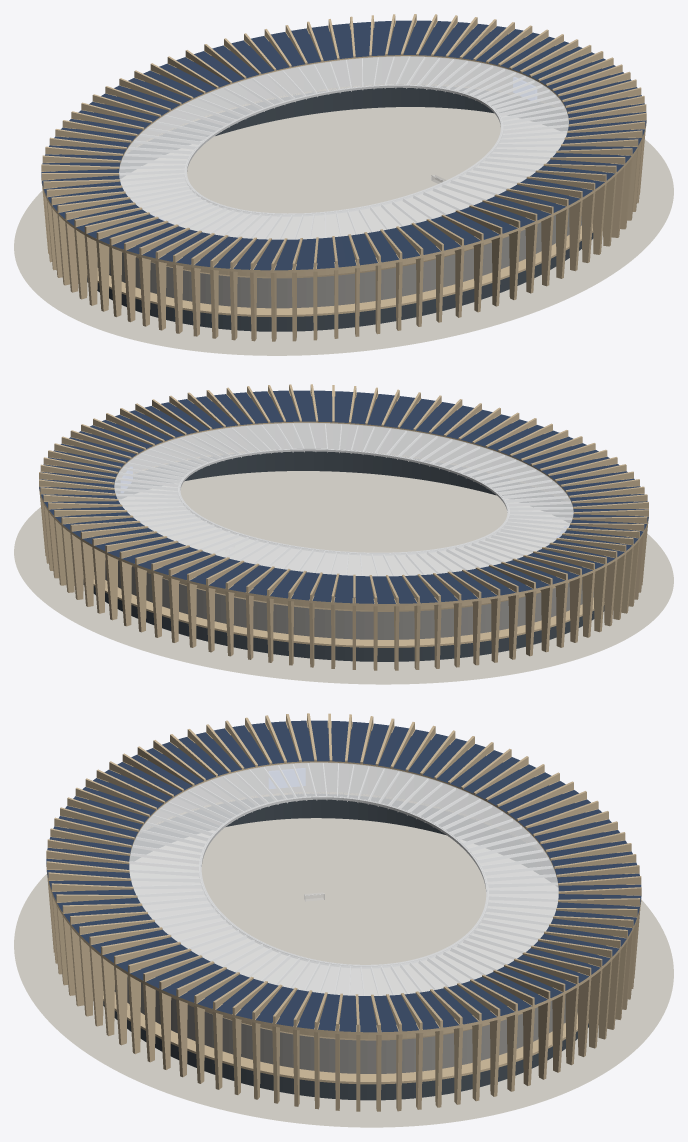
Rendered from MINEIRAO.fbx.
3 views of the same model, one above another, from view 1: azimuth 30°, elevation 25°; view 2: azimuth 150°, elevation 25°; view 3: azimuth 270°, elevation 25° (orthographic). The views are drawn at different scales.
Visible parts, largest first — view 1: Mnr_Esplanada, Mnr_Porticos_88, Mnr_Cobertura_Original, Mnr_Cobertura_Nova, Mnr_Arquibancadas, Mnr_Trelicas_Cobertura, Mnr_Anel_Circulacao, Mnr_Anel_Compressao; view 2: Mnr_Porticos_88, Mnr_Esplanada, Mnr_Cobertura_Original, Mnr_Cobertura_Nova, Mnr_Arquibancadas, Mnr_Trelicas_Cobertura, Mnr_Anel_Circulacao, Mnr_Anel_Compressao; view 3: Mnr_Esplanada, Mnr_Porticos_88, Mnr_Cobertura_Original, Mnr_Cobertura_Nova, Mnr_Arquibancadas, Mnr_Trelicas_Cobertura, Mnr_Anel_Circulacao, Mnr_Anel_Compressao.
Part boxes in pixels (x1,y1,x2,y2): Mnr_Esplanada: (14,107,673,355); Mnr_Porticos_88: (41,14,646,341); Mnr_Cobertura_Original: (41,20,646,272); Mnr_Cobertura_Nova: (119,56,568,239); Mnr_Arquibancadas: (87,57,593,331); Mnr_Trelicas_Cobertura: (119,57,567,239); Mnr_Anel_Circulacao: (87,84,593,316); Mnr_Anel_Compressao: (184,84,503,215); Mnr_Porticos_88: (39,384,648,670); Mnr_Esplanada: (14,471,673,684); Mnr_Cobertura_Original: (39,390,648,606); Mnr_Cobertura_Nova: (114,422,573,576); Mnr_Arquibancadas: (83,423,604,661); Mnr_Trelicas_Cobertura: (115,424,572,575); Mnr_Anel_Circulacao: (93,451,604,647); Mnr_Anel_Compressao: (178,448,509,554); Mnr_Esplanada: (14,818,673,1127); Mnr_Porticos_88: (46,713,641,1111); Mnr_Cobertura_Original: (46,720,641,1035); Mnr_Cobertura_Nova: (129,762,558,995); Mnr_Arquibancadas: (103,763,588,1100); Mnr_Trelicas_Cobertura: (130,763,558,995); Mnr_Anel_Circulacao: (103,792,588,1084); Mnr_Anel_Compressao: (199,796,488,967).
Size of the model in its own units: 95.29 by 11.9 by 78.94.
